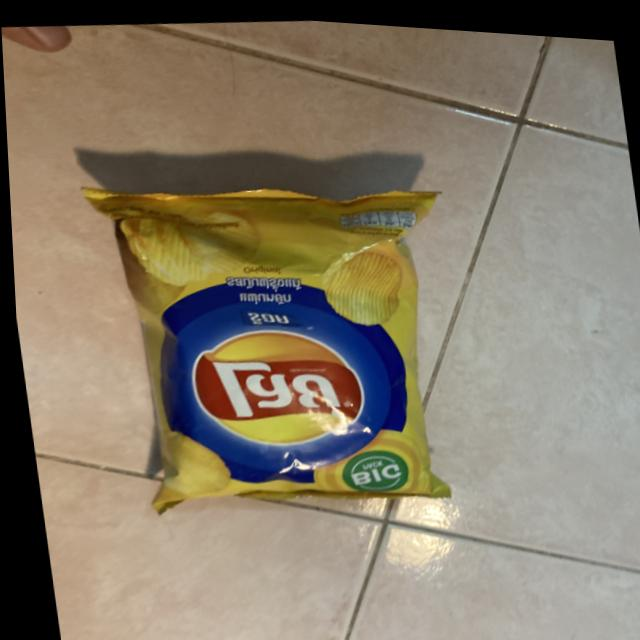LayYellow: (72, 119, 470, 561)
